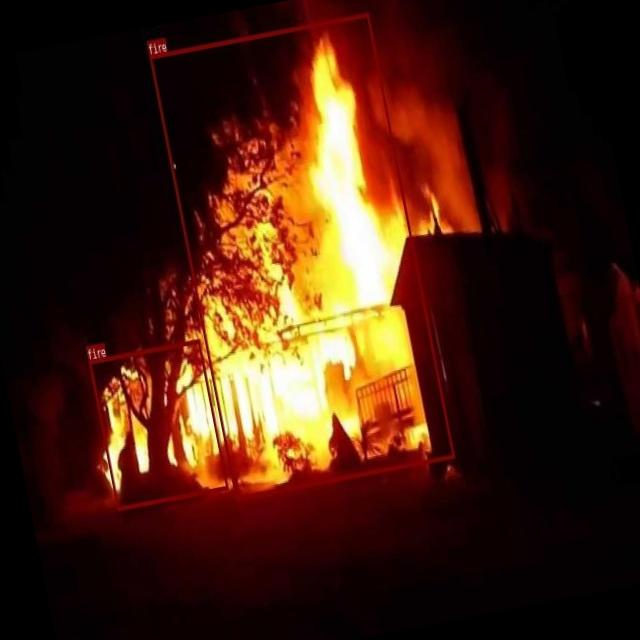fire: (150, 12, 454, 500), (88, 338, 228, 510)
